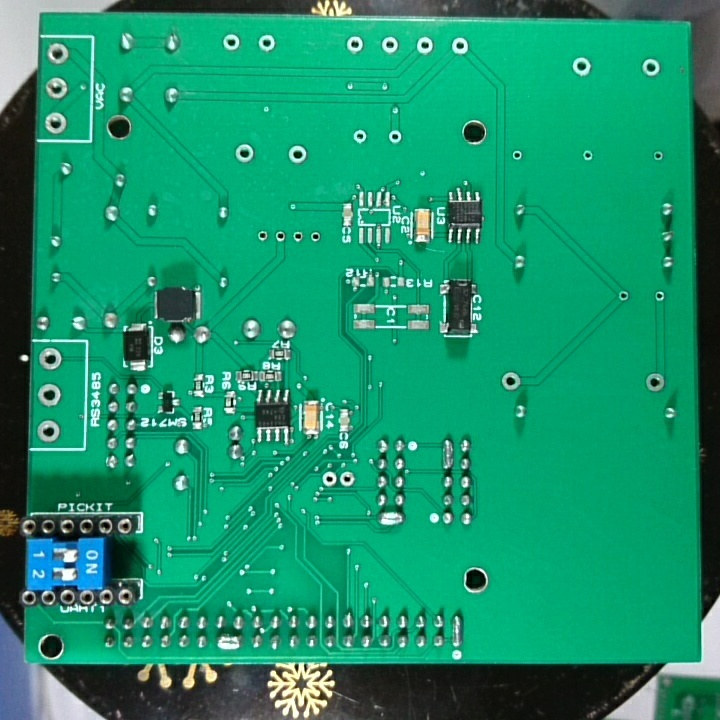F: (35, 380, 63, 409), (42, 109, 71, 136), (37, 345, 63, 372), (45, 40, 71, 67), (641, 369, 667, 396), (34, 418, 62, 443), (285, 141, 309, 169), (45, 74, 70, 100), (254, 30, 279, 55), (233, 140, 257, 166), (570, 55, 594, 81), (639, 55, 663, 80), (378, 32, 402, 56), (448, 34, 472, 58), (499, 368, 522, 393), (412, 34, 436, 57), (220, 31, 242, 55), (385, 126, 406, 146), (345, 34, 365, 55), (320, 469, 339, 489), (337, 469, 355, 490), (271, 226, 289, 246), (350, 126, 368, 146), (578, 146, 596, 165), (254, 226, 271, 246), (290, 227, 306, 247), (615, 286, 631, 306), (308, 226, 323, 246), (509, 146, 525, 163), (651, 287, 667, 304), (651, 146, 665, 164)
P: (438, 435, 457, 474), (214, 632, 245, 651), (377, 509, 405, 529), (449, 612, 464, 649)
